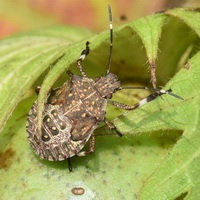insect: (26, 10, 197, 160)
